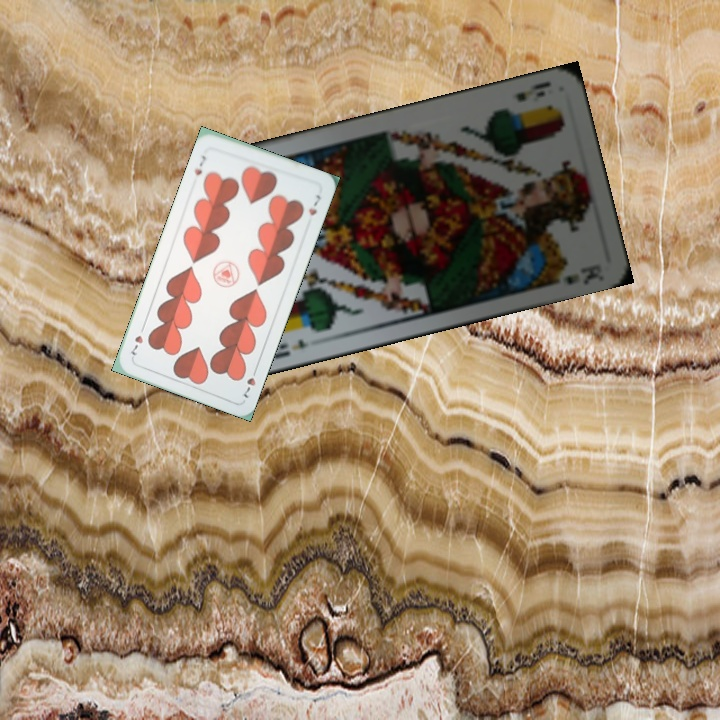EK: (270, 334, 323, 362), (511, 77, 553, 104)
H7: (239, 363, 260, 401), (190, 151, 209, 178)
